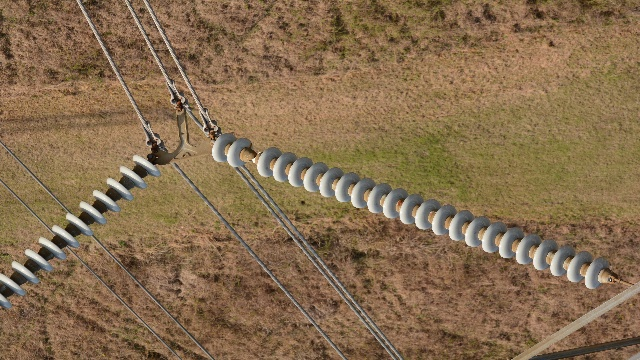insulator_unspecified: (213, 133, 607, 288), (0, 154, 161, 306)
